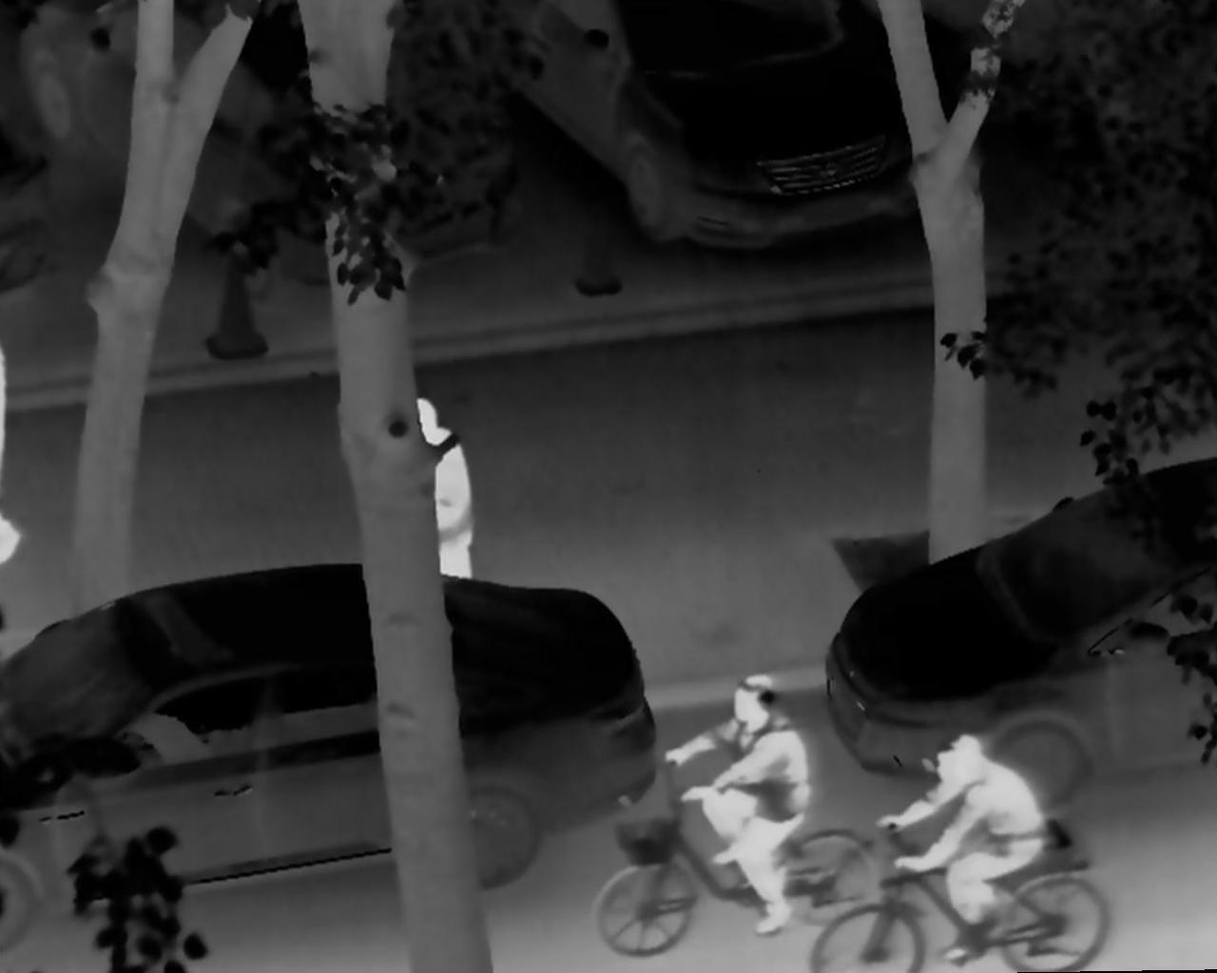person: (656, 671, 812, 939), (871, 729, 1045, 959), (399, 396, 479, 588)
